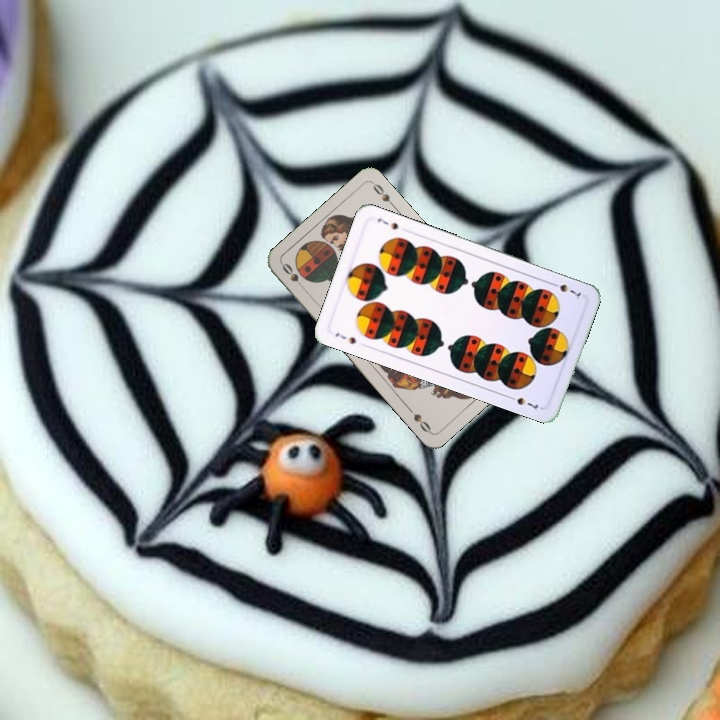S7: (546, 278, 584, 302), (331, 329, 358, 347)
SO: (278, 259, 309, 294)
